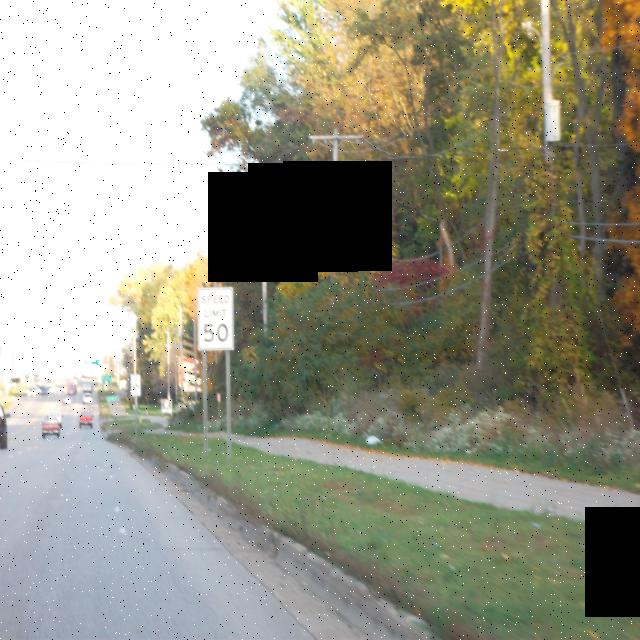regulatory: (196, 286, 236, 352), (130, 373, 142, 397)
